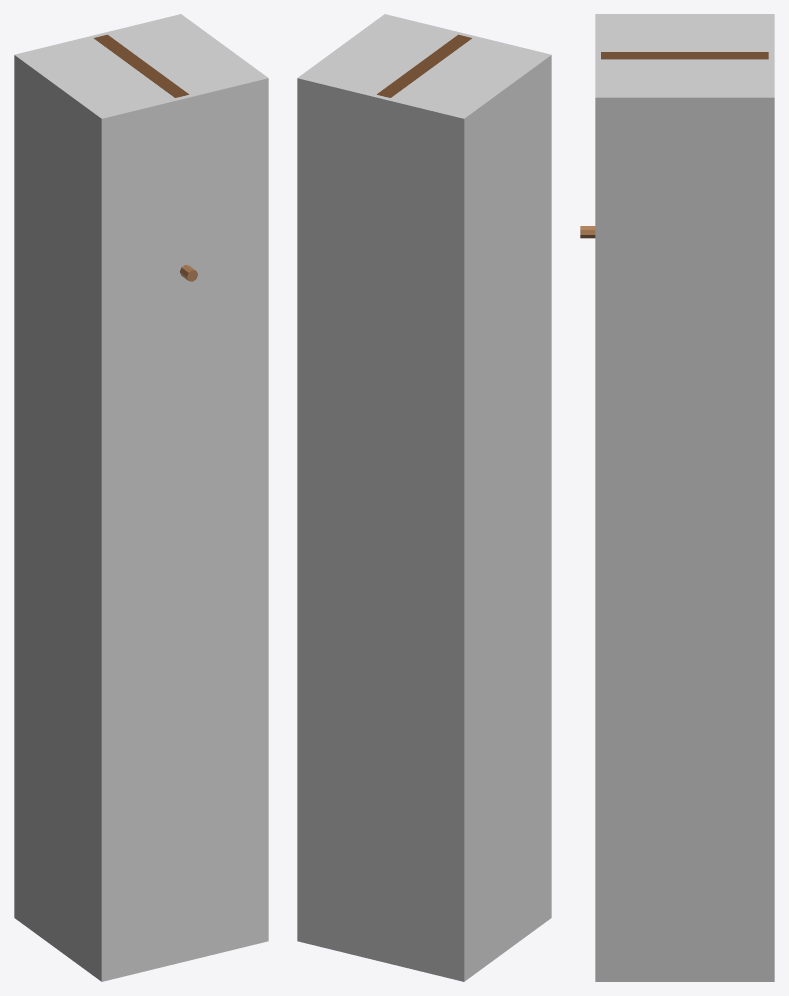
Rendered from FMS_Birdhouse.fbx.
3 renders of one model, left to right at view 1: azimuth 30°, elevation 25°; view 2: azimuth 150°, elevation 25°; view 3: azimuth 270°, elevation 25°, orthographic. The views are drawn at different scales.
Visible parts, largest first — view 1: FMS_Birdhouse_Col, FMS_Birdhouse_LOD0; view 2: FMS_Birdhouse_Col, FMS_Birdhouse_LOD0; view 3: FMS_Birdhouse_Col, FMS_Birdhouse_LOD0.
Part boxes in pixels (x1,y1,x2,y2): FMS_Birdhouse_Col: (14, 14, 268, 981); FMS_Birdhouse_LOD0: (94, 34, 197, 281); FMS_Birdhouse_Col: (297, 14, 551, 981); FMS_Birdhouse_LOD0: (377, 34, 471, 97); FMS_Birdhouse_Col: (595, 14, 774, 981); FMS_Birdhouse_LOD0: (580, 52, 768, 238).
Size of what is drawn, in the model's own units: 0.33 by 1.63 by 0.325.
1 material, 1 textured.
